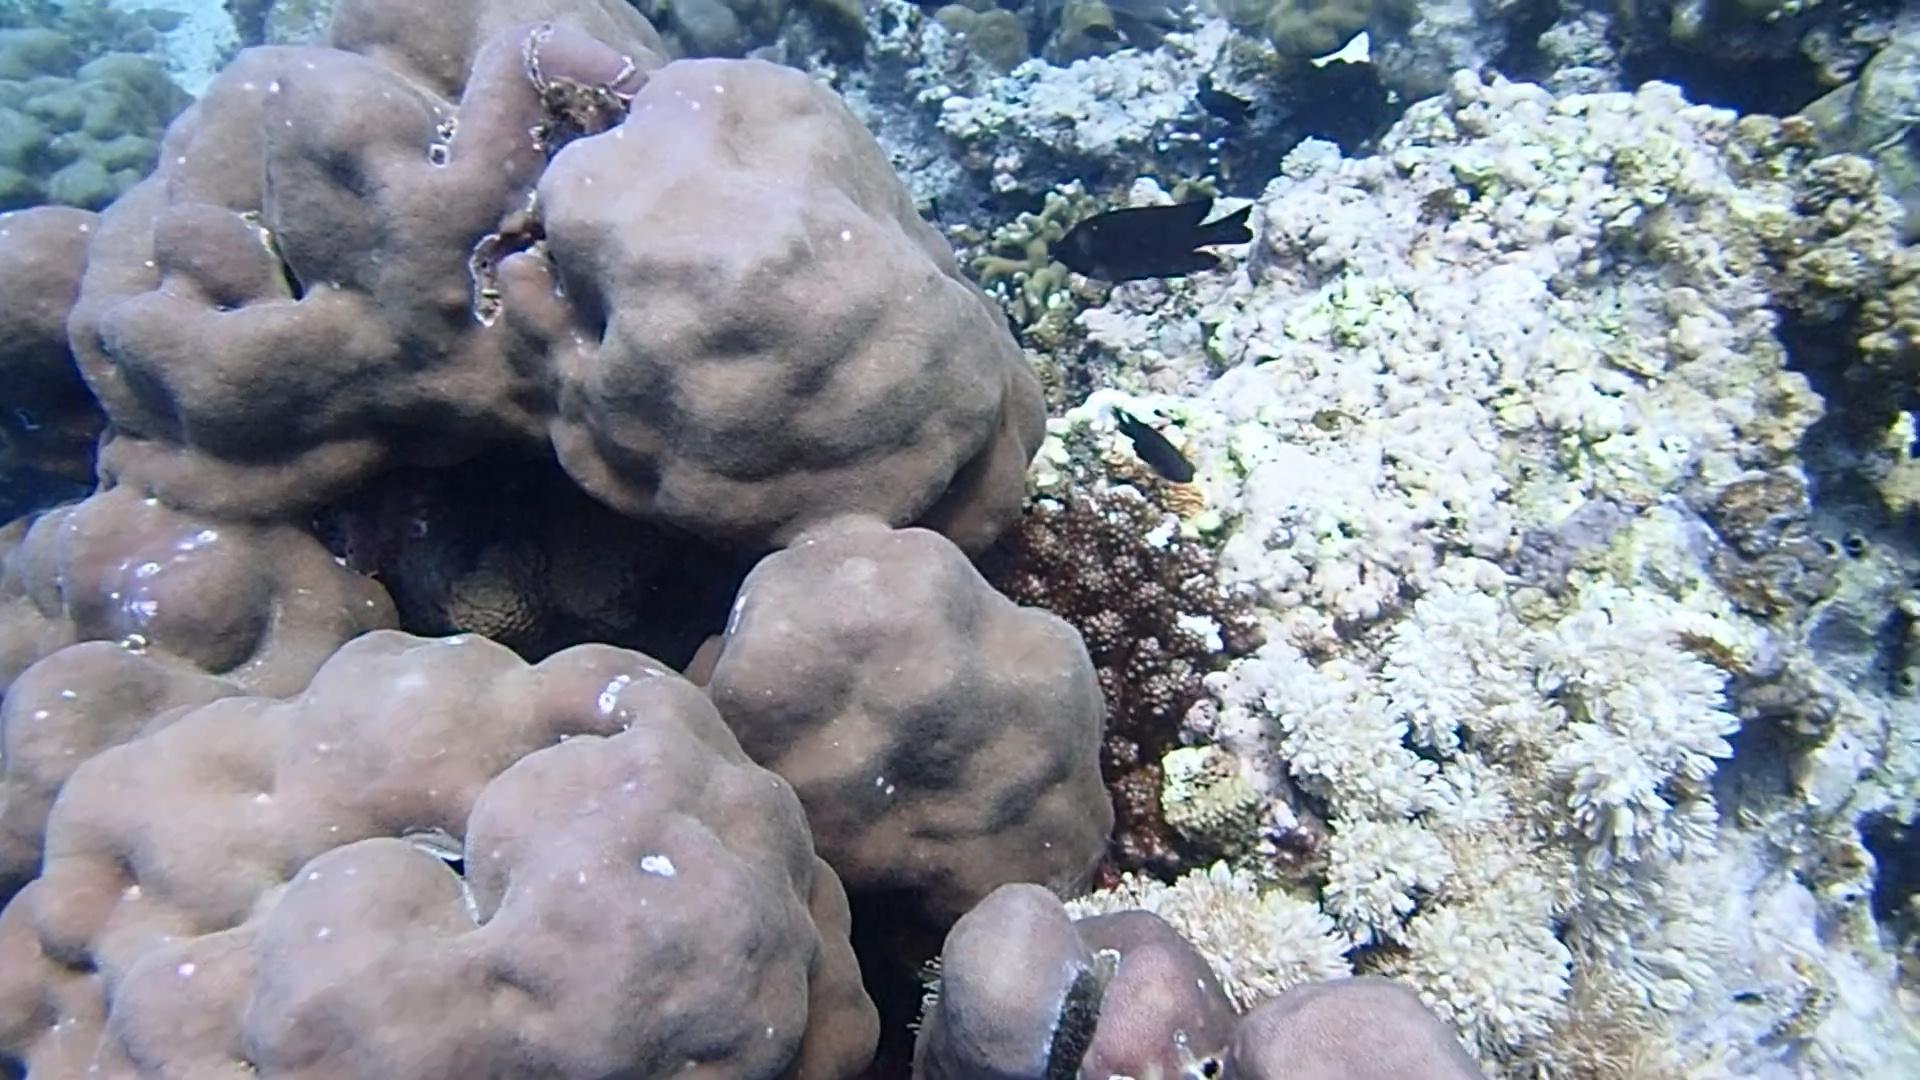Dark Fish: (1040, 185, 1267, 295), (1104, 400, 1209, 496), (1189, 82, 1262, 131)
